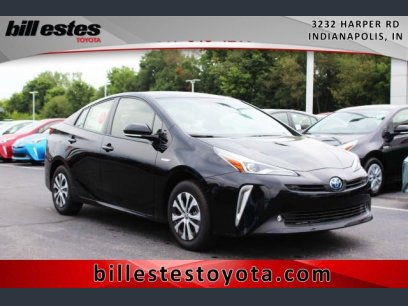Toyota Prius: (44, 89, 375, 252)
